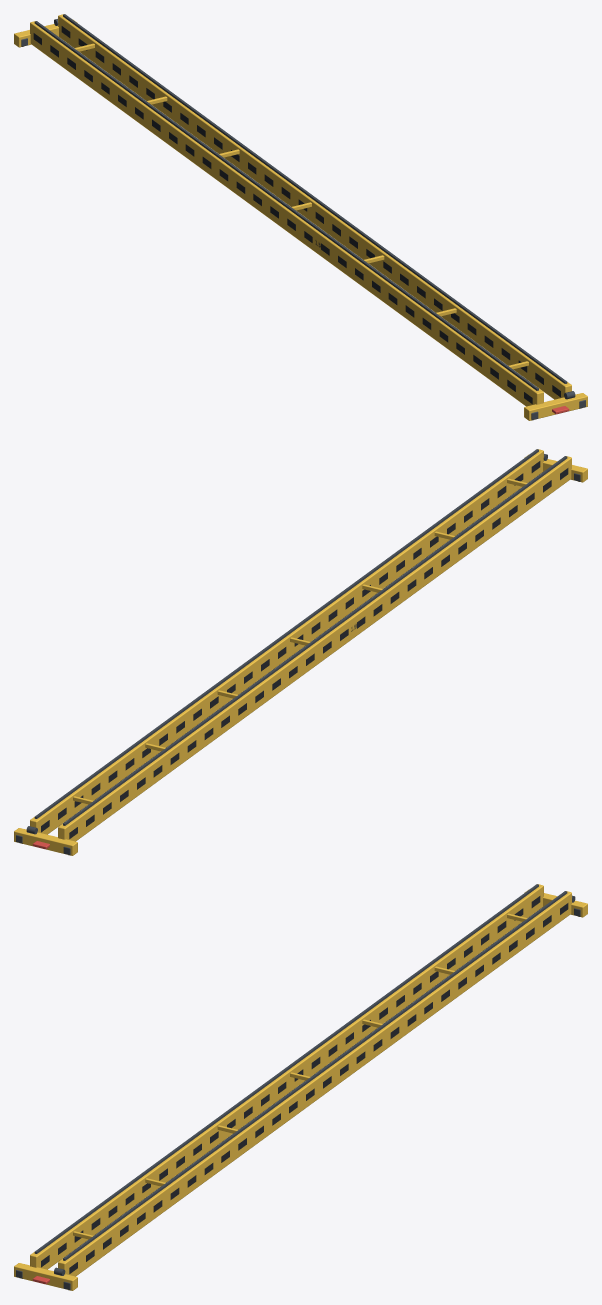
The model's file is ponte_viga.glb.
The picture shows the model from 3 angles, top to bottom: view 1: azimuth 30°, elevation 25°; view 2: azimuth 150°, elevation 25°; view 3: azimuth 330°, elevation 25°; orthographic projection.
Parts seen in each view (by area): view 1: viga_caixao (×2), trilho_carro (×2), viga_cabeceira; view 2: viga_caixao (×2), trilho_carro (×2), viga_cabeceira; view 3: viga_caixao (×2), trilho_carro (×2), viga_cabeceira.
Boxes of the visible parts, left/top/right/bottom form: viga_caixao (×2): left=30, top=14, right=571, bottom=406; trilho_carro (×2): left=34, top=14, right=567, bottom=390; viga_cabeceira: left=524, top=393, right=587, bottom=420; viga_caixao (×2): left=30, top=449, right=571, bottom=841; trilho_carro (×2): left=34, top=449, right=567, bottom=825; viga_cabeceira: left=14, top=828, right=77, bottom=855; viga_caixao (×2): left=30, top=884, right=571, bottom=1276; trilho_carro (×2): left=34, top=884, right=567, bottom=1260; viga_cabeceira: left=14, top=1263, right=77, bottom=1290.
Bounding box in the file's own units: 2.6 × 1.08 × 39.8.
5 materials, 1 textured.
